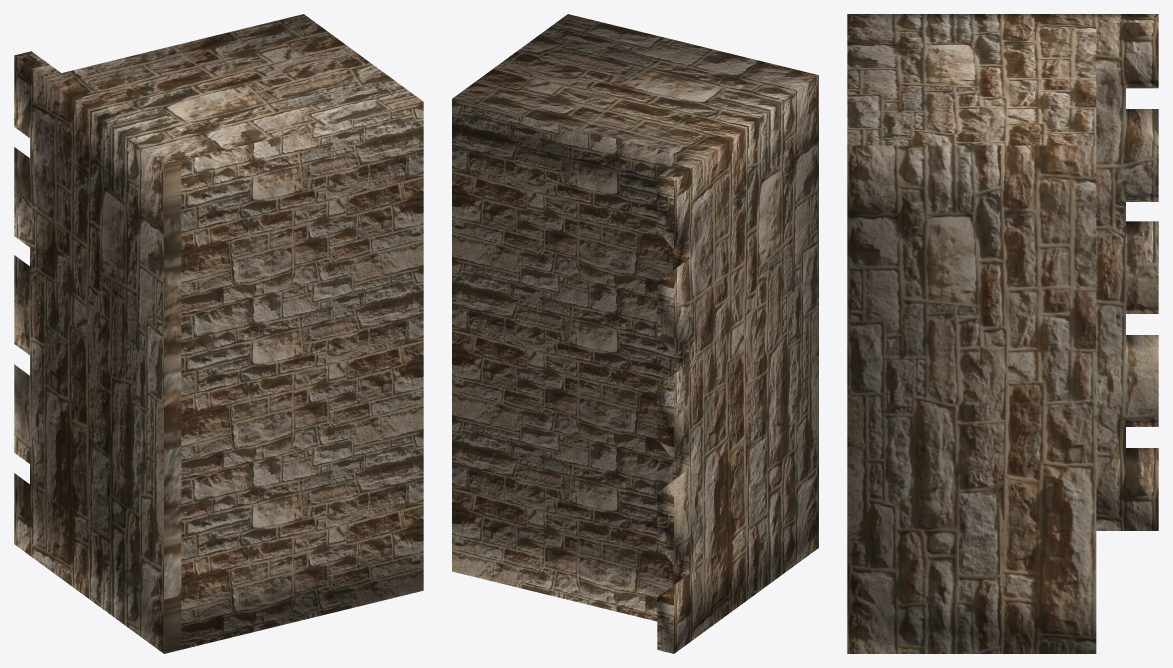
File: wall mod textured.fbx
The picture shows the model from 3 angles, left to right: view 1: azimuth 30°, elevation 25°; view 2: azimuth 150°, elevation 25°; view 3: azimuth 270°, elevation 25°; orthographic projection. The views are drawn at different scales.
Visible parts, largest first — view 1: modSectionConcept_polySurface1; view 2: modSectionConcept_polySurface1; view 3: modSectionConcept_polySurface1.
Part boxes in pixels (left/top/right/bottom): modSectionConcept_polySurface1: left=14, top=14, right=423, bottom=653; modSectionConcept_polySurface1: left=452, top=14, right=818, bottom=653; modSectionConcept_polySurface1: left=847, top=14, right=1158, bottom=653.
Size of the model in its own units: 5 by 9 by 5.
